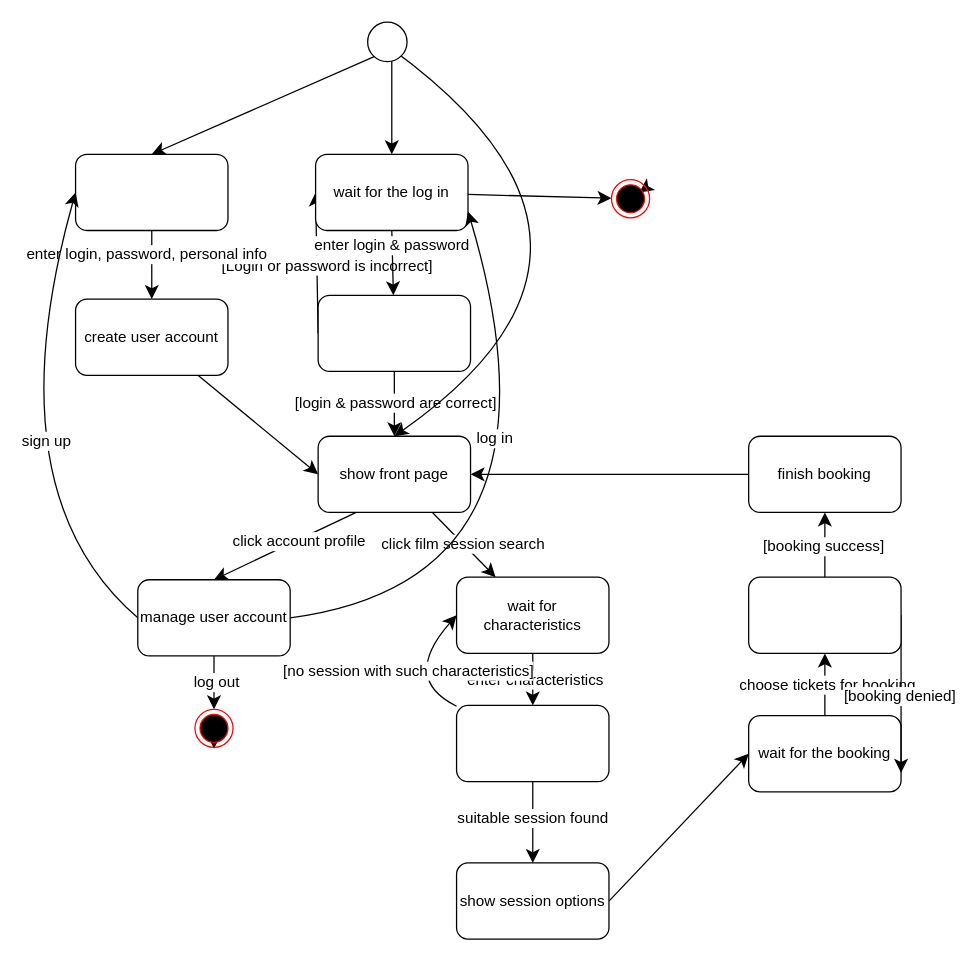
The diagram is 978 pixels wide and 961 high, and some of its shapes have lost their labels. Each missing label, with the centre of its shape:
check login & password: (x=394, y=332)
verify booking: (x=824, y=614)
verify the characteristics: (x=532, y=743)
wait for the registration: (x=151, y=192)
